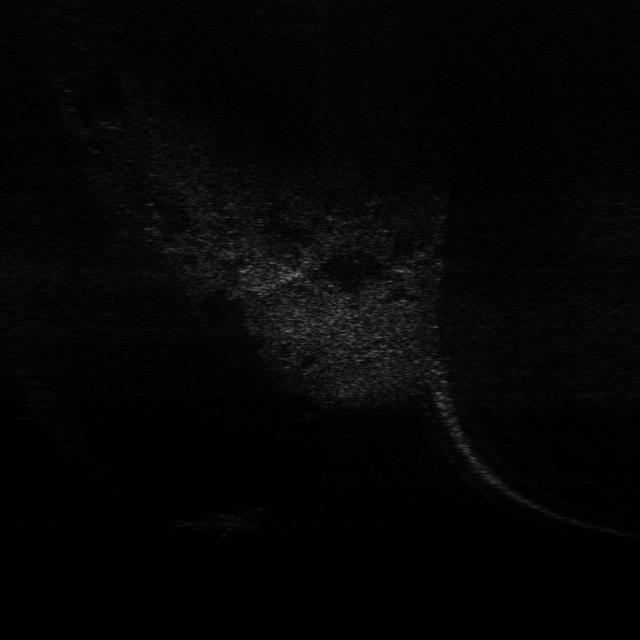cube: (191, 504, 267, 529)
